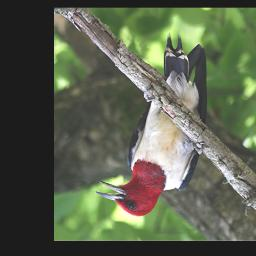Woodpecker: (91, 33, 212, 216)
